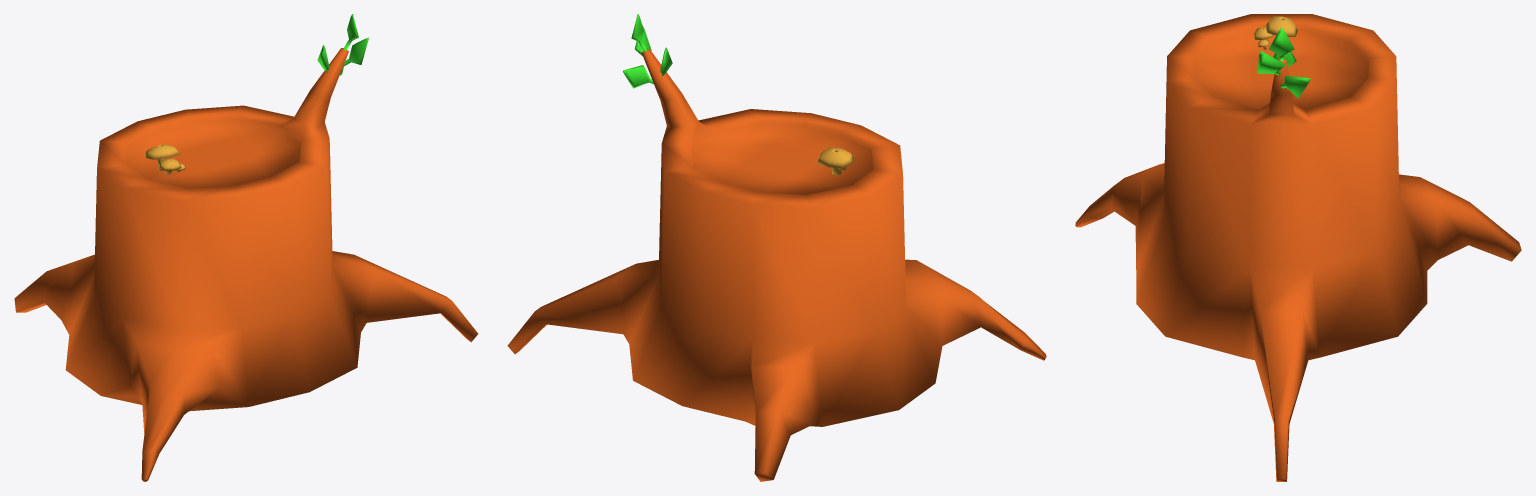
File: noTree.glb
The picture shows the model from 3 angles, left to right: view 1: azimuth 30°, elevation 25°; view 2: azimuth 150°, elevation 25°; view 3: azimuth 270°, elevation 25°; orthographic projection. The views are drawn at different scales.
Parts seen in each view (by area): view 1: Cube; view 2: Cube; view 3: Cube.
Boxes of the visible parts, x1,y1,x2,y2 form: Cube: (14,14,478,481); Cube: (507,14,1046,481); Cube: (1075,14,1521,481).
Bounding box in the file's own units: 2.47 × 1.97 × 2.03.
